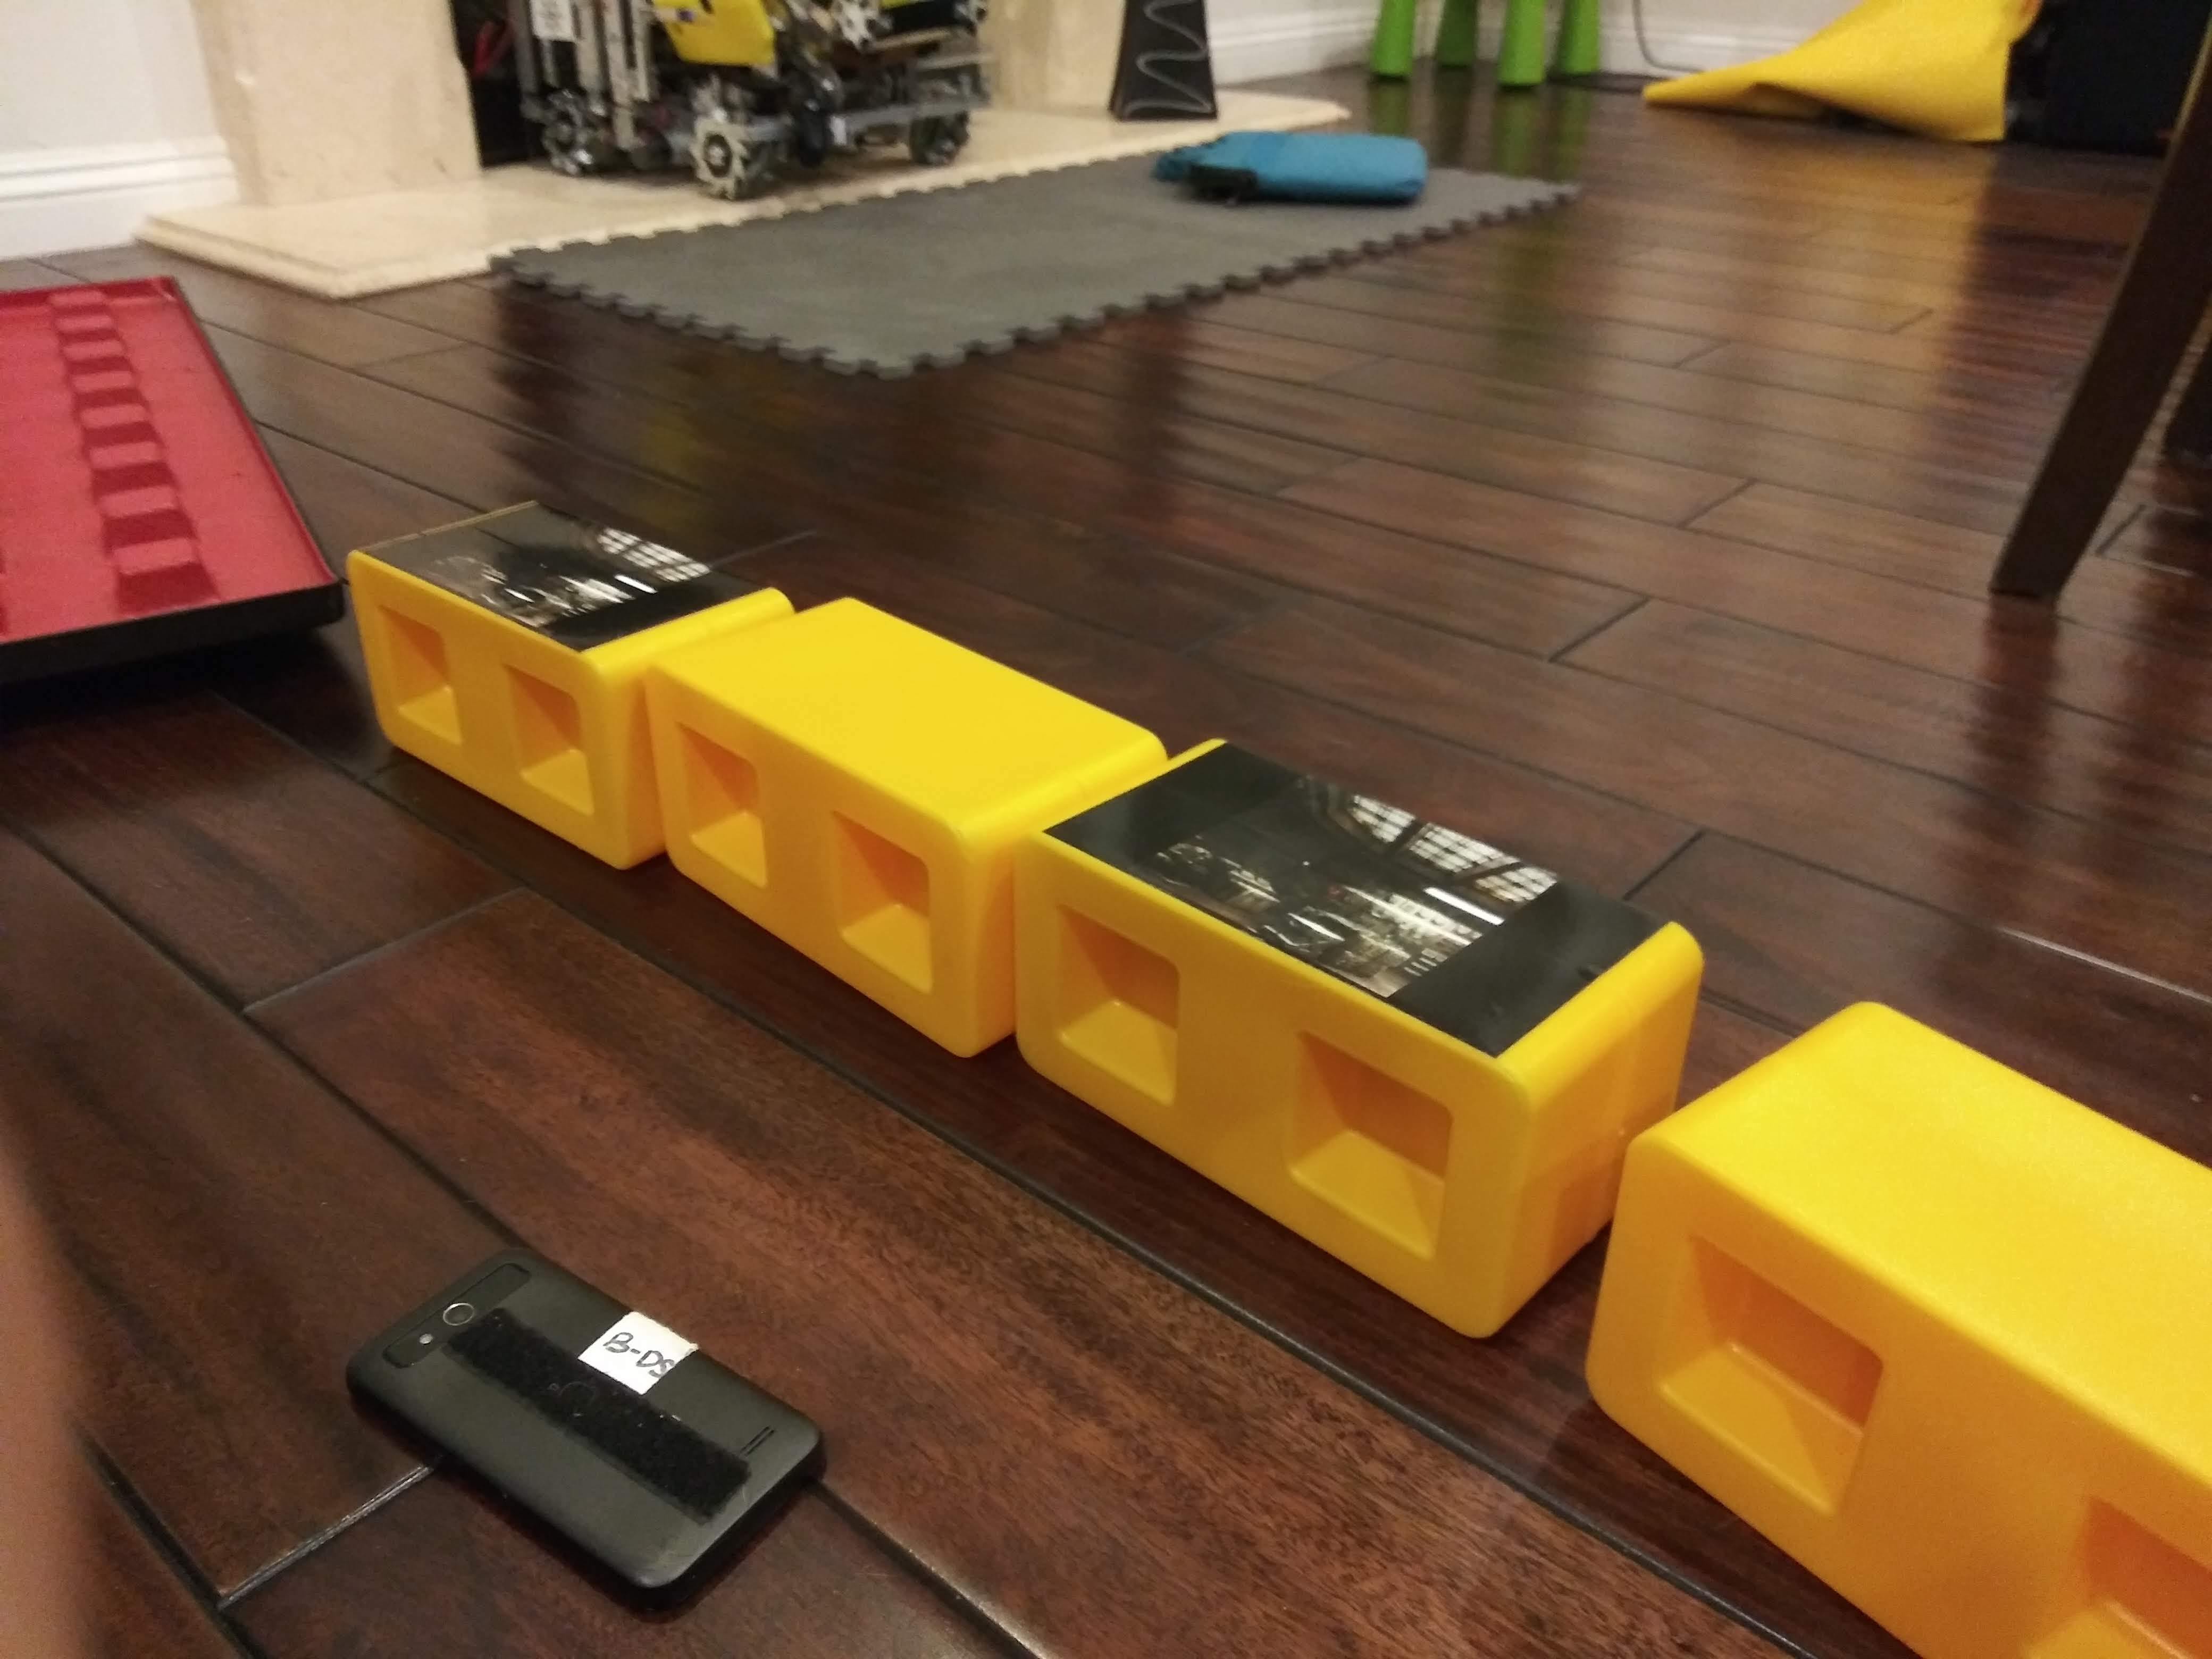skystone: (1134, 727, 1615, 1279), (364, 493, 651, 800)
stone: (1679, 1019, 2209, 1605), (711, 598, 1043, 1030)
